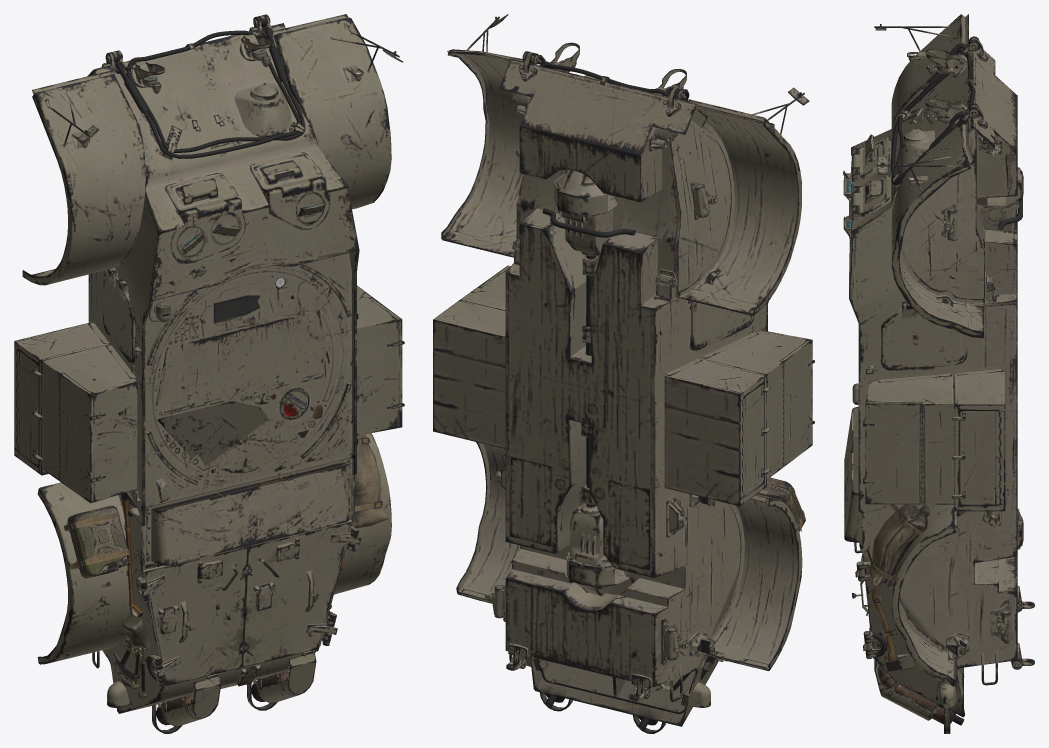
Rendered from Hull.glb.
3 views of the same model, side by side, from view 1: azimuth 30°, elevation 25°; view 2: azimuth 150°, elevation 25°; view 3: azimuth 270°, elevation 25° (orthographic). The views are drawn at different scales.
Visible parts, largest first — view 1: set_0_group_0; view 2: set_0_group_0; view 3: set_0_group_0.
Part boxes in pixels (<box>): set_0_group_0: <box>14,14,404,733</box>; set_0_group_0: <box>433,14,814,733</box>; set_0_group_0: <box>843,14,1034,733</box>.
Bounding box in the file's own units: 2.73 × 5.46 × 1.5.
Materials: 1 (1 with a texture image).
